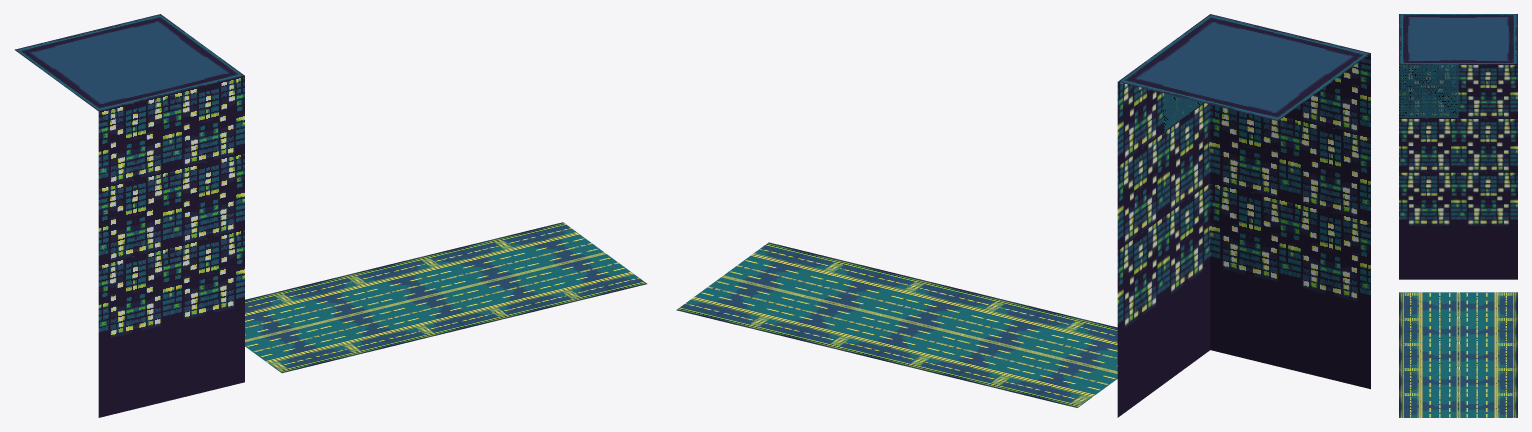
Rendered from city_models.glb.
3 renders of one model, left to right at view 1: azimuth 30°, elevation 25°; view 2: azimuth 150°, elevation 25°; view 3: azimuth 270°, elevation 25°, orthographic. The views are drawn at different scales.
Parts seen in each view (by area): view 1: skyscrapper-1-col, highway-col; view 2: skyscrapper-1-col, highway-col; view 3: skyscrapper-1-col, highway-col.
Part boxes in pixels (x1,y1,x2,y2): skyscrapper-1-col: (14,14,244,417); highway-col: (245,222,646,373); skyscrapper-1-col: (1117,14,1370,417); highway-col: (676,242,1117,407); skyscrapper-1-col: (1399,14,1517,279); highway-col: (1399,292,1517,417).
Size of the model in its own units: 37.5 by 20 by 10.
2 materials, 2 textured.
